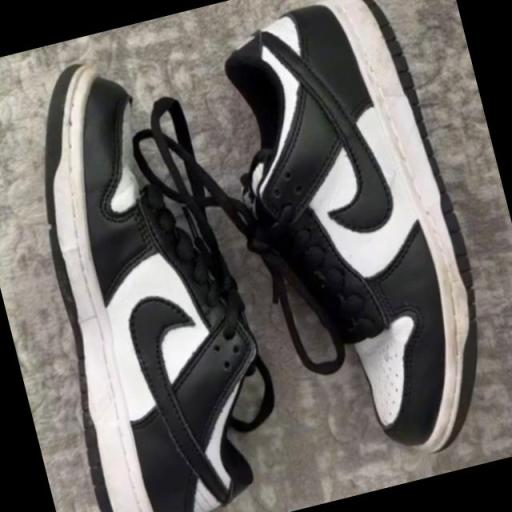Nike: (270, 20, 401, 243)
